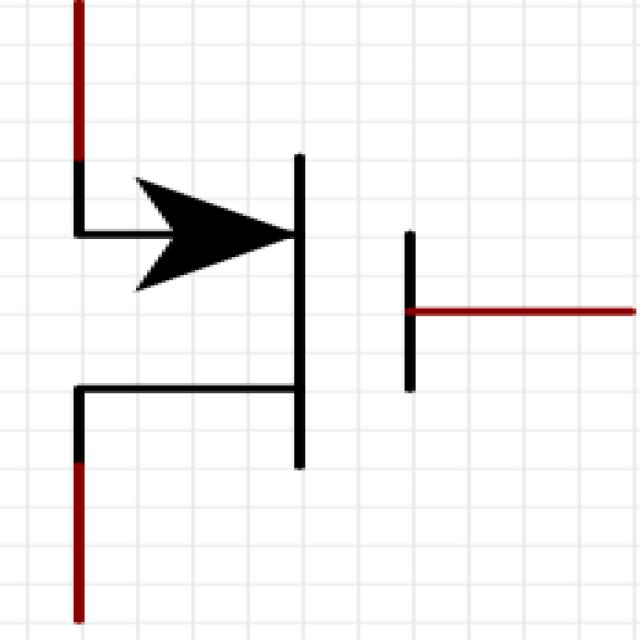pmos: (11, 28, 640, 625)
